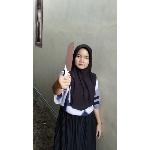Pisau: (58, 40, 77, 80)
